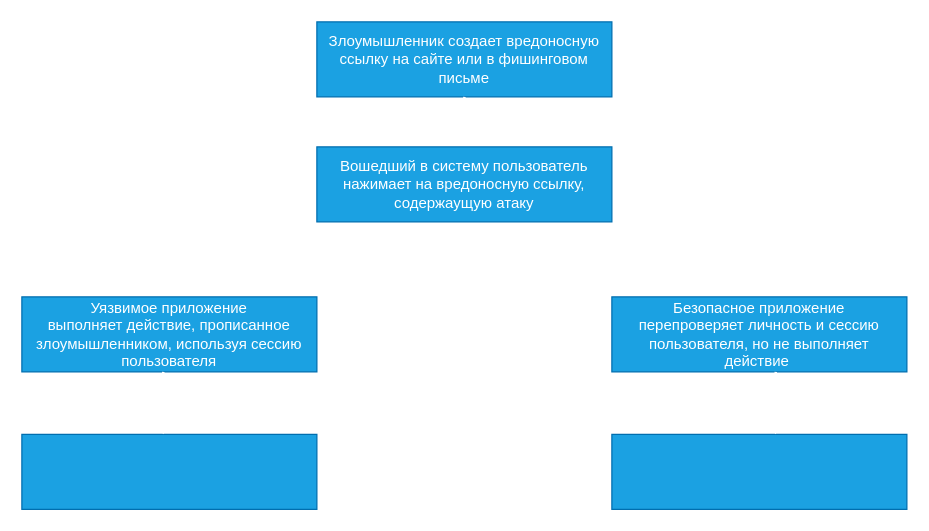
Image size: 929x531. Some labels were removed from this diagram. Each missing label, with the box of its shape:
Пользователь не знает о действиях внутри приложения, атака проходит успешно: (21, 433, 317, 509)
Сессия пользователя успешно защищена: (611, 433, 907, 509)
